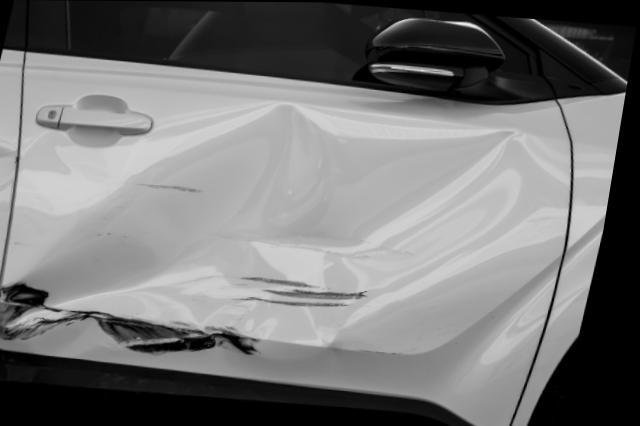dent: (16, 105, 576, 364)
scratch: (4, 282, 275, 358)
